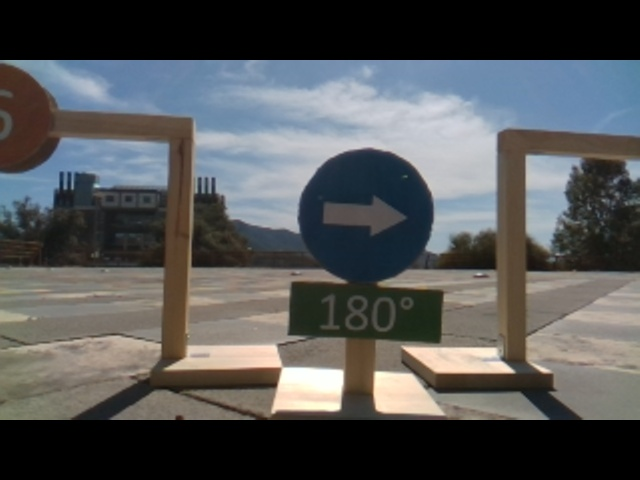180_degree: (285, 277, 448, 345)
arrow_right: (292, 139, 438, 283)
checkpoint_foot: (397, 338, 557, 393), (151, 329, 283, 383)
checkpoint_side: (153, 109, 200, 362), (486, 119, 533, 365)
checkpoint_signal: (1, 94, 198, 152)
